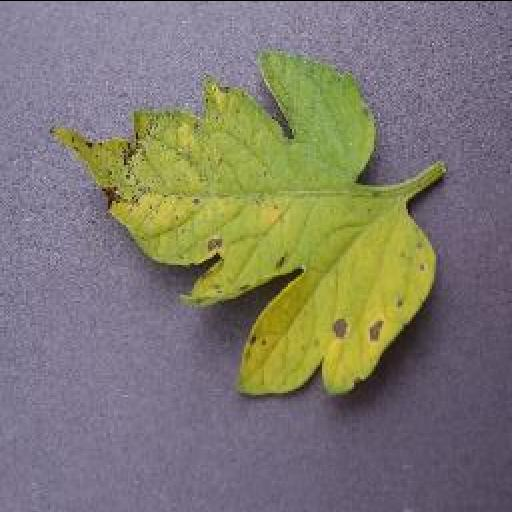disease_tomato: (52, 48, 438, 400)
